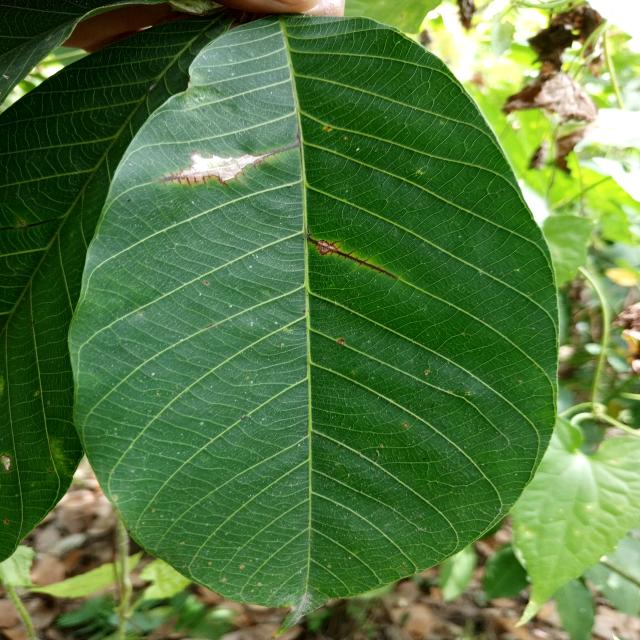Corynespora: (155, 141, 300, 189), (306, 230, 398, 279)
Leaf-Blight: (182, 152, 262, 182)
